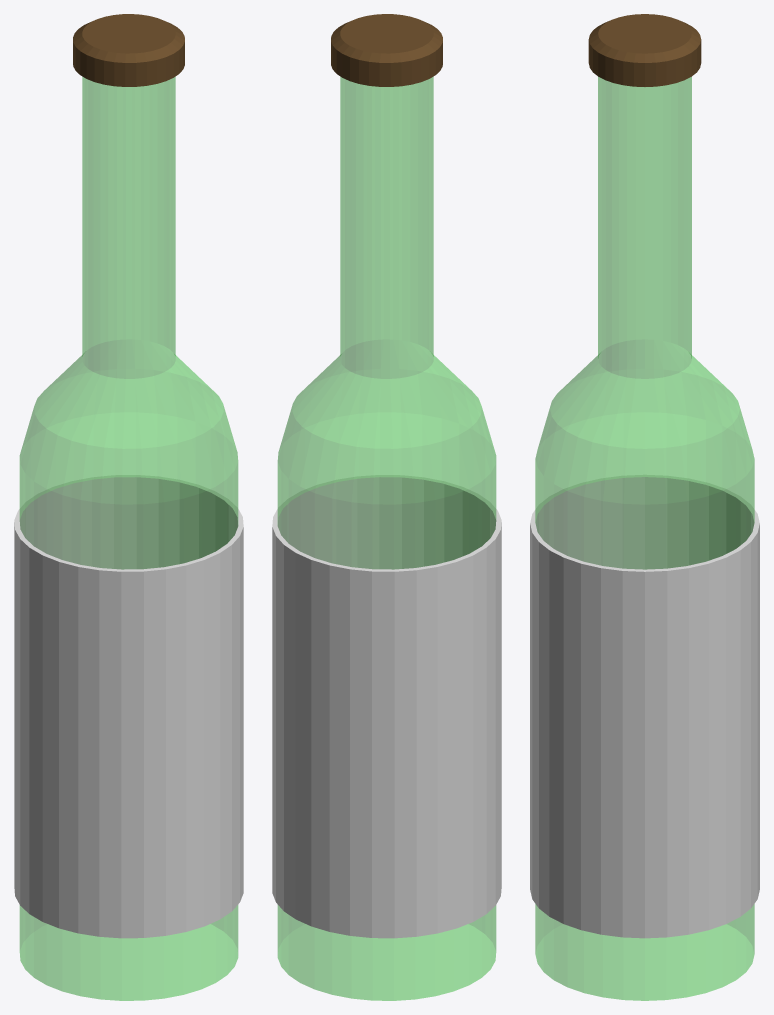
Rendered from Bottle.glb.
3 views of the same model, side by side, from view 1: azimuth 30°, elevation 25°; view 2: azimuth 150°, elevation 25°; view 3: azimuth 270°, elevation 25° (orthographic).
Parts seen in each view (by area): view 1: Cylinder; view 2: Cylinder; view 3: Cylinder.
Boxes of the visible parts, x1,y1,x2,y2 form: Cylinder: [14, 14, 243, 1000]; Cylinder: [272, 14, 501, 1000]; Cylinder: [530, 14, 759, 1000].
Size of the model in its own units: 0.2098 by 0.9278 by 0.2098.
